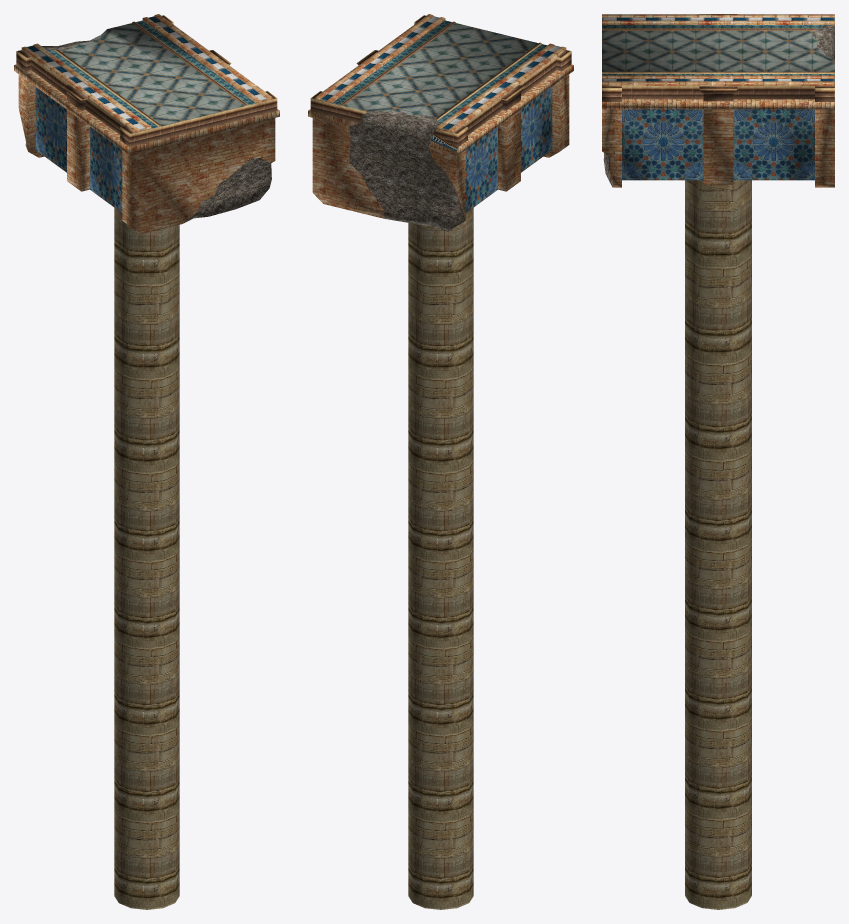
File: OBJBridgeOneLeg.gltf
3 views of the same model, side by side, from view 1: azimuth 30°, elevation 25°; view 2: azimuth 150°, elevation 25°; view 3: azimuth 270°, elevation 25° (orthographic). The views are drawn at different scales.
Parts seen in each view (by area): view 1: BridgeOneLeg; view 2: BridgeOneLeg; view 3: BridgeOneLeg.
Boxes of the visible parts, box(x1,y1,x2,y2) form: BridgeOneLeg: box(14, 14, 279, 909); BridgeOneLeg: box(308, 14, 573, 909); BridgeOneLeg: box(602, 14, 834, 909).
Bounding box in the file's own units: 7.77 × 40.12 × 10.
Materials: 5 (5 with a texture image).
